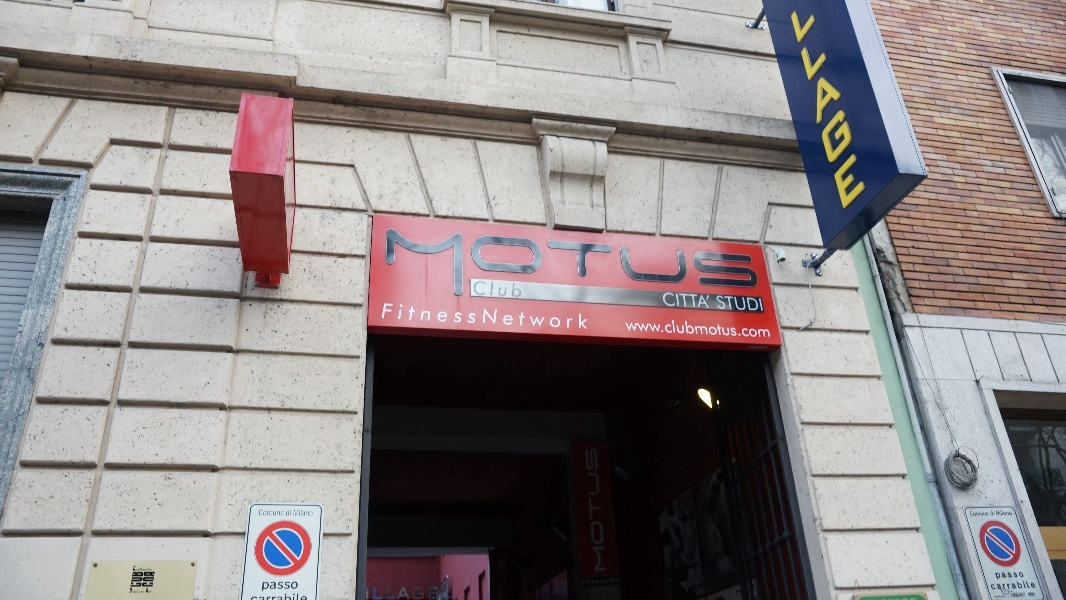text: (801, 9, 816, 216), (817, 9, 832, 216), (833, 9, 848, 216), (849, 9, 864, 216), (787, 9, 800, 216), (593, 446, 608, 576), (582, 446, 592, 576), (401, 224, 416, 301), (417, 224, 432, 301), (433, 224, 448, 301), (449, 224, 464, 301), (465, 224, 480, 301), (481, 224, 496, 301), (497, 224, 512, 301), (513, 224, 528, 301), (529, 224, 544, 301), (545, 224, 560, 301), (561, 224, 576, 301), (577, 224, 592, 301), (593, 224, 608, 301), (609, 224, 624, 301), (625, 224, 640, 301), (641, 224, 656, 301), (657, 224, 672, 301), (673, 224, 688, 301), (689, 224, 704, 301), (705, 224, 720, 301), (721, 224, 736, 301), (737, 224, 752, 301), (386, 224, 400, 301), (865, 9, 870, 216), (753, 224, 763, 301), (385, 302, 400, 331), (401, 302, 416, 331), (417, 302, 432, 331), (433, 302, 448, 331), (449, 302, 464, 331), (465, 302, 480, 331), (481, 302, 496, 331), (497, 302, 512, 331), (513, 302, 528, 331), (529, 302, 544, 331), (545, 302, 560, 331), (561, 302, 576, 331), (577, 302, 590, 331), (625, 317, 640, 340), (641, 317, 656, 340), (657, 317, 672, 340), (673, 317, 688, 340), (689, 317, 704, 340), (705, 317, 720, 340), (721, 317, 736, 340), (737, 317, 752, 340), (753, 317, 768, 340), (369, 576, 384, 599), (385, 576, 400, 599), (401, 576, 416, 599), (417, 576, 432, 599), (433, 576, 448, 599), (481, 280, 496, 298), (497, 280, 512, 298), (609, 446, 611, 576), (673, 292, 688, 309), (689, 292, 704, 309), (721, 295, 736, 312), (737, 295, 752, 312), (753, 295, 765, 312), (273, 581, 288, 593), (513, 280, 522, 298), (1009, 571, 1025, 581), (993, 581, 1008, 591), (1009, 581, 1024, 591), (664, 292, 672, 309), (593, 577, 608, 586), (995, 571, 1008, 581), (1025, 581, 1038, 591), (131, 565, 144, 575), (473, 280, 480, 298), (262, 581, 272, 593), (609, 577, 622, 586), (289, 581, 298, 593), (145, 565, 155, 575), (581, 577, 592, 586), (364, 576, 368, 599), (259, 510, 272, 517), (705, 292, 710, 309), (977, 511, 990, 517), (273, 510, 284, 517), (293, 510, 304, 517), (996, 510, 1008, 516), (1028, 592, 1040, 598), (769, 317, 772, 340), (716, 295, 720, 312), (1011, 593, 1024, 598), (305, 510, 313, 517), (994, 595, 1008, 599), (449, 576, 451, 599), (970, 511, 976, 517), (1019, 592, 1024, 598), (1019, 593, 1024, 598), (1009, 510, 1013, 516), (289, 510, 292, 517), (993, 510, 996, 517), (286, 510, 288, 517), (990, 510, 992, 517), (1025, 592, 1027, 598), (991, 581, 992, 591), (1009, 595, 1010, 598)
